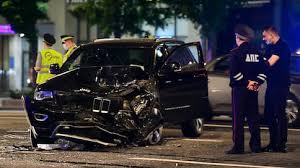car: (25, 29, 213, 149)
